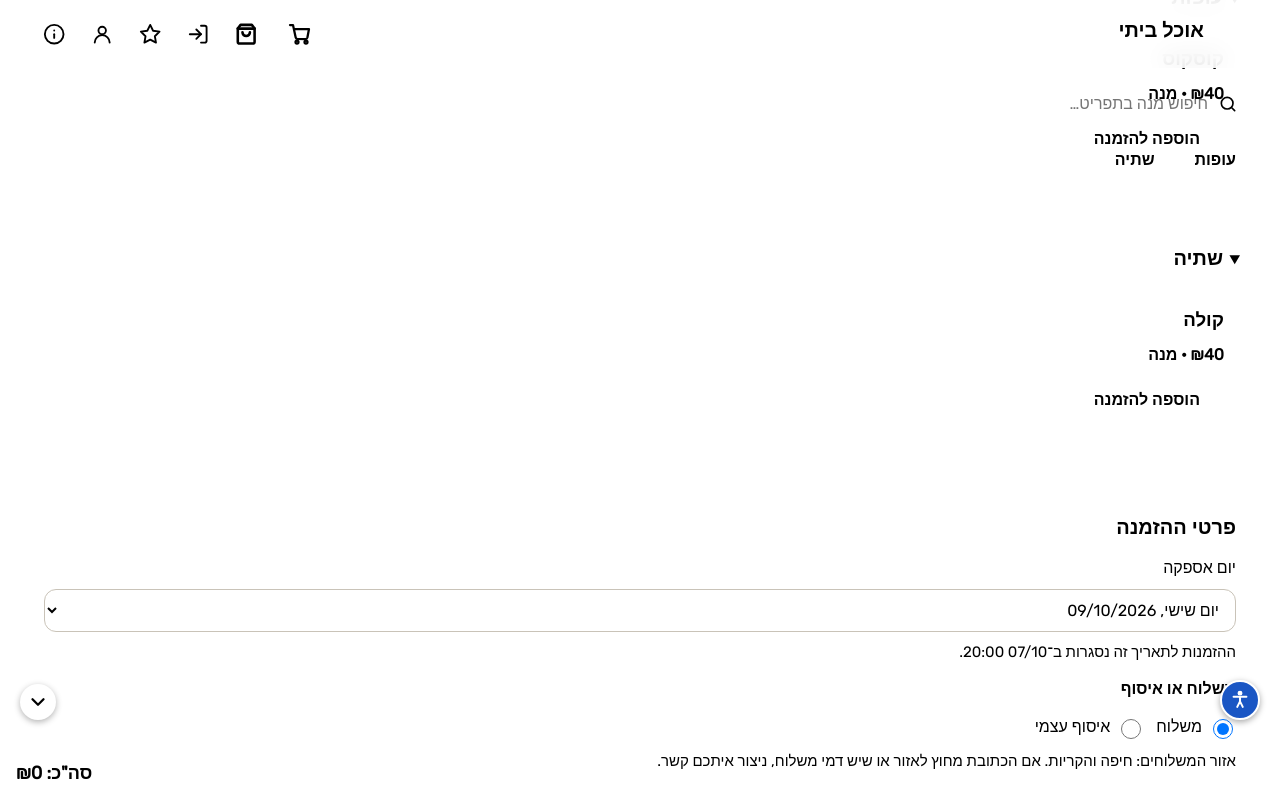
Order page › counts the units ordered from the drinks category in their own total
(page scrolled)
Click the button "הוספה להזמנה" at (1147, 400), box [1074,378,1220,423]
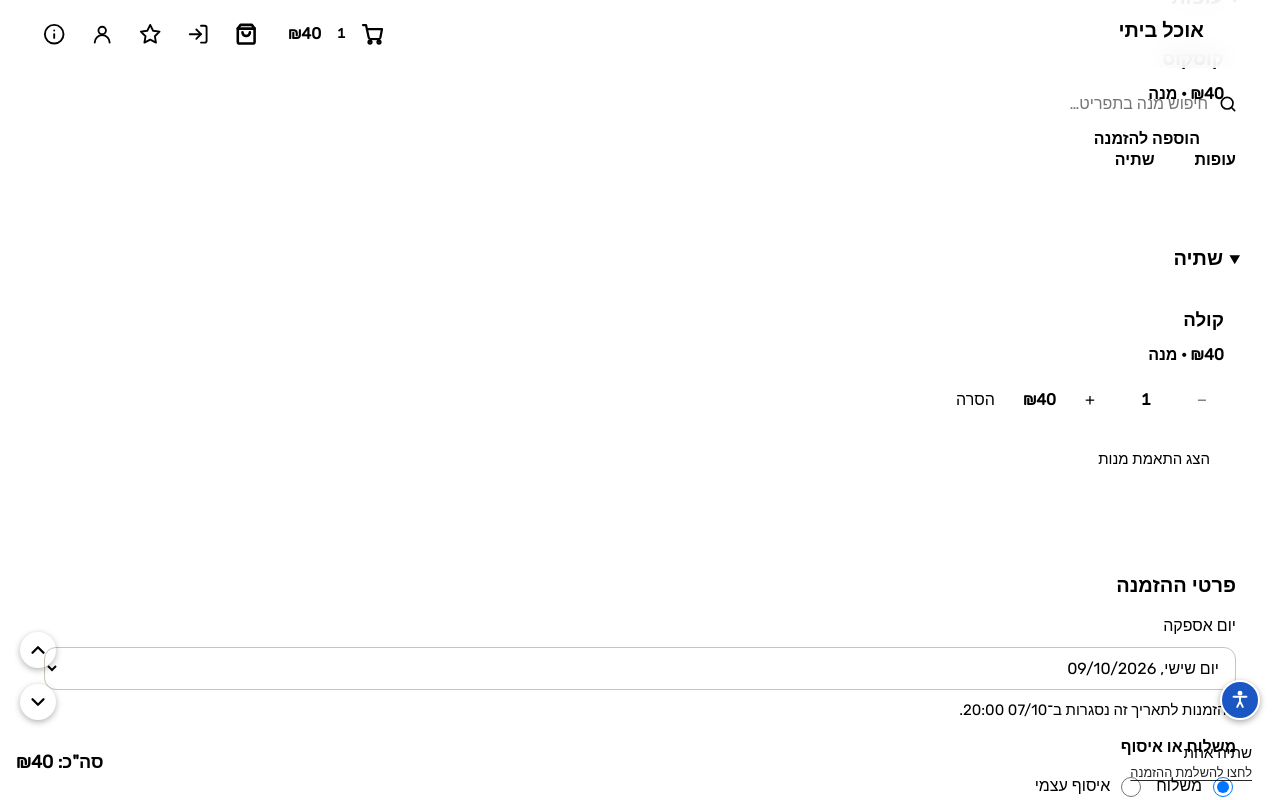
Click the button named "הוספה: קולה" at (1090, 400), box [1068,378,1112,422]
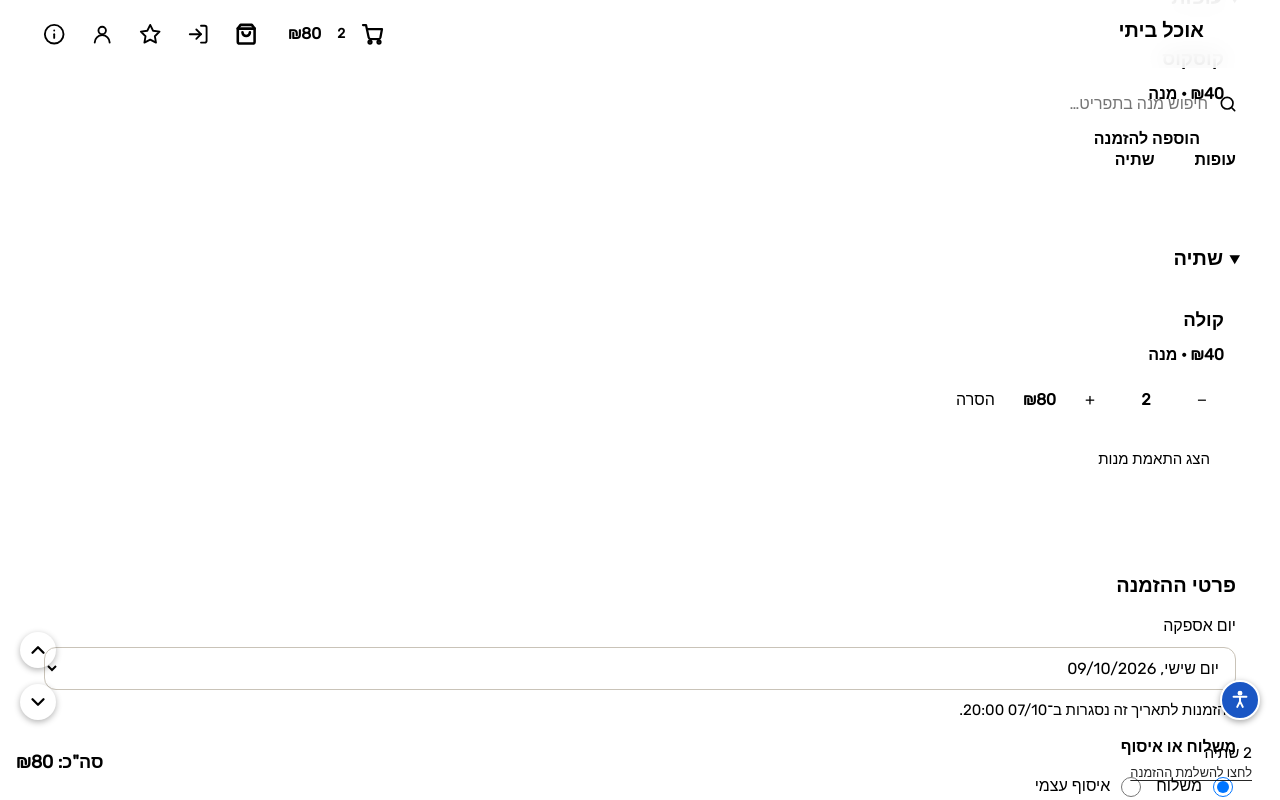
Click the button named "הוספה: קולה" at (1090, 400), box [1068,378,1112,422]
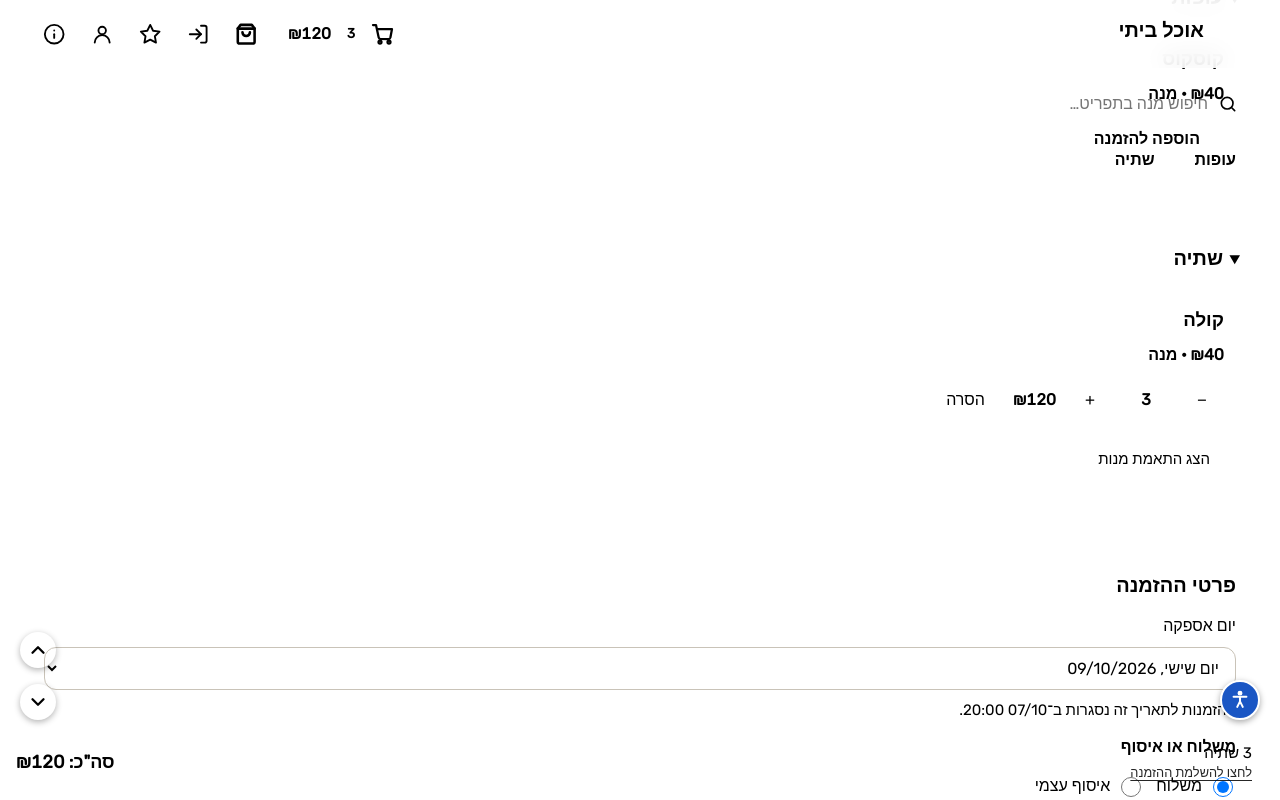
Expected: the text "3 שתיה" is shown, [1204,744,1252,763]
